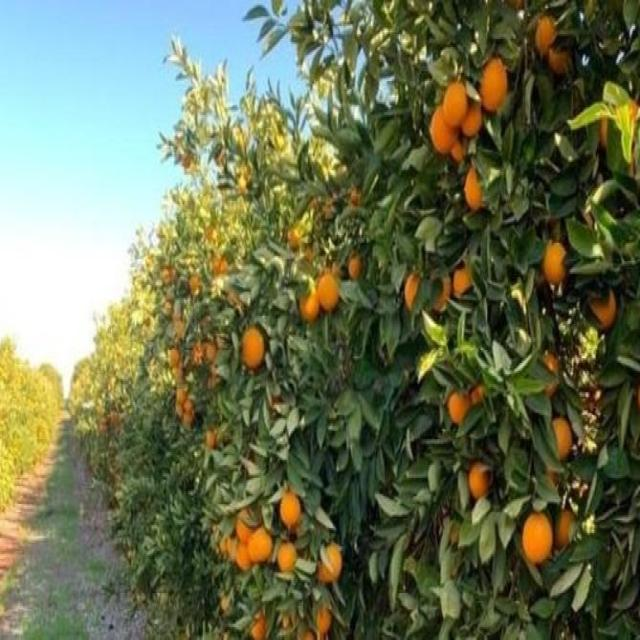row: (1, 401, 154, 639)
